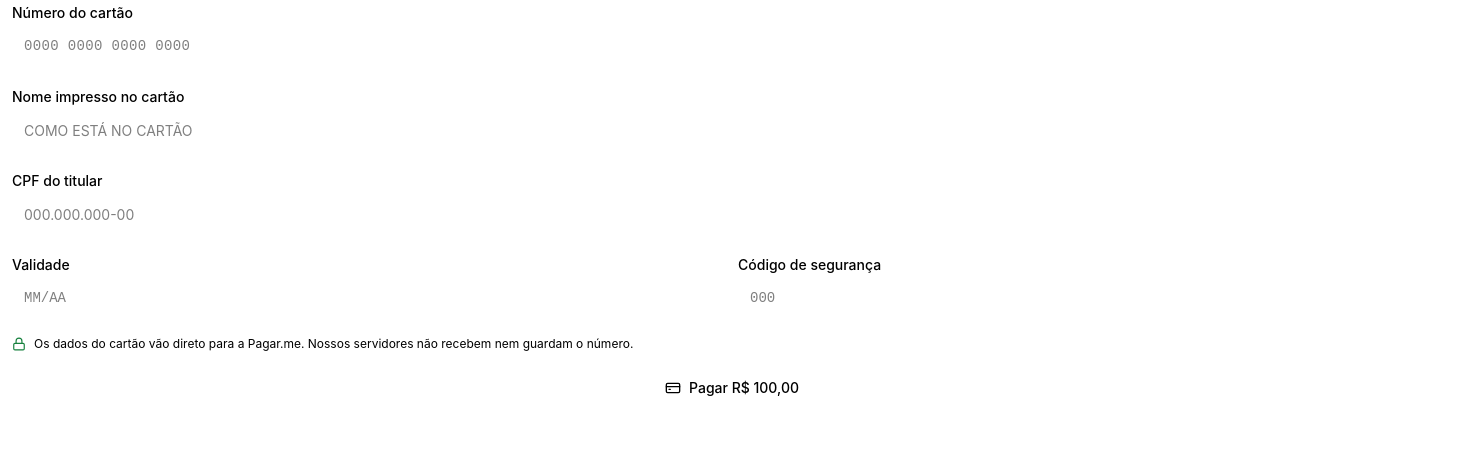
Scenario: PagarmeCardForm exit report › does not offer PIX when the outcome of the charge is unknown
Check: the button "Pagar R$ 100,00" is enabled, box [12,368,1452,408]
Type "4000 0000 0000 0010" into the field labelled "Número do cartão" at (732, 46), box [12,24,1452,68]
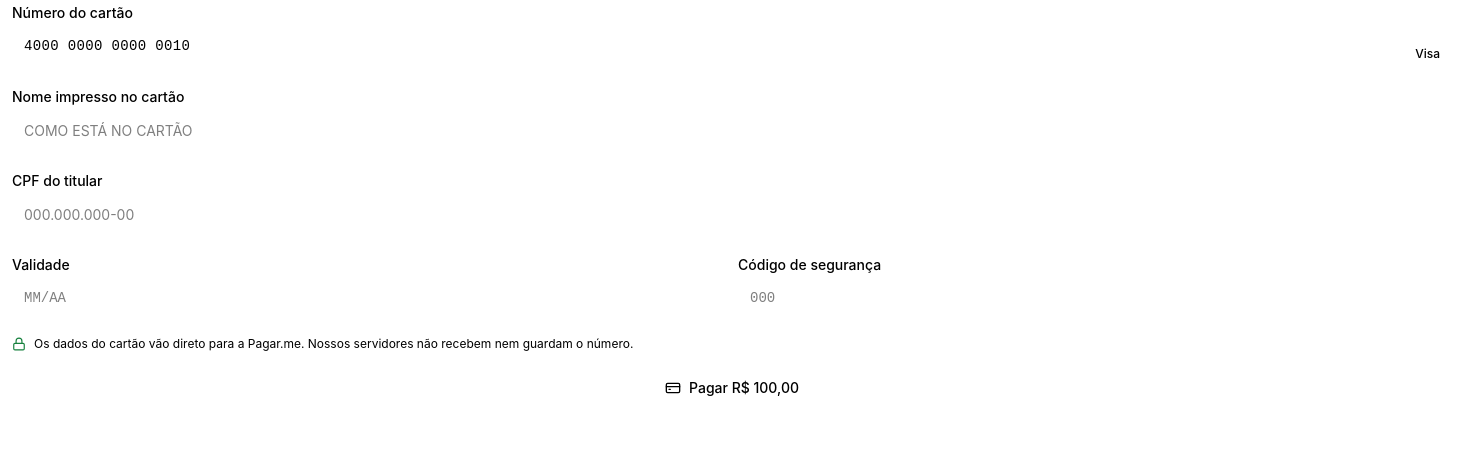
Type "MARIA DA SILVA" into the field labelled "Nome impresso no cartão" at (732, 130), box [12,108,1452,152]
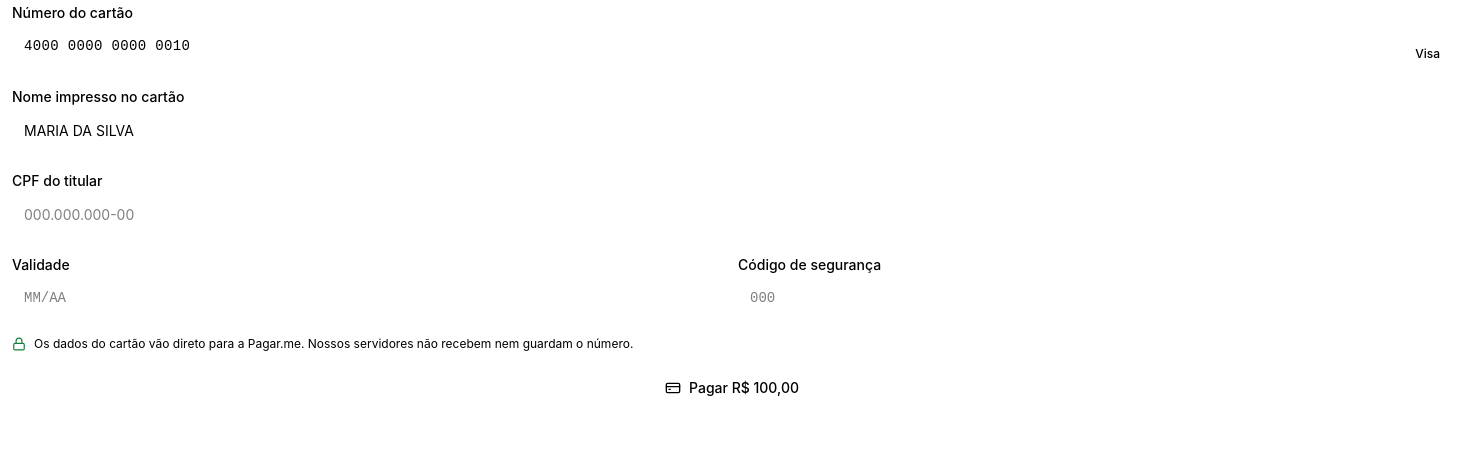
Type "52998224725" into the field labelled "CPF do titular" at (732, 214), box [12,192,1452,236]
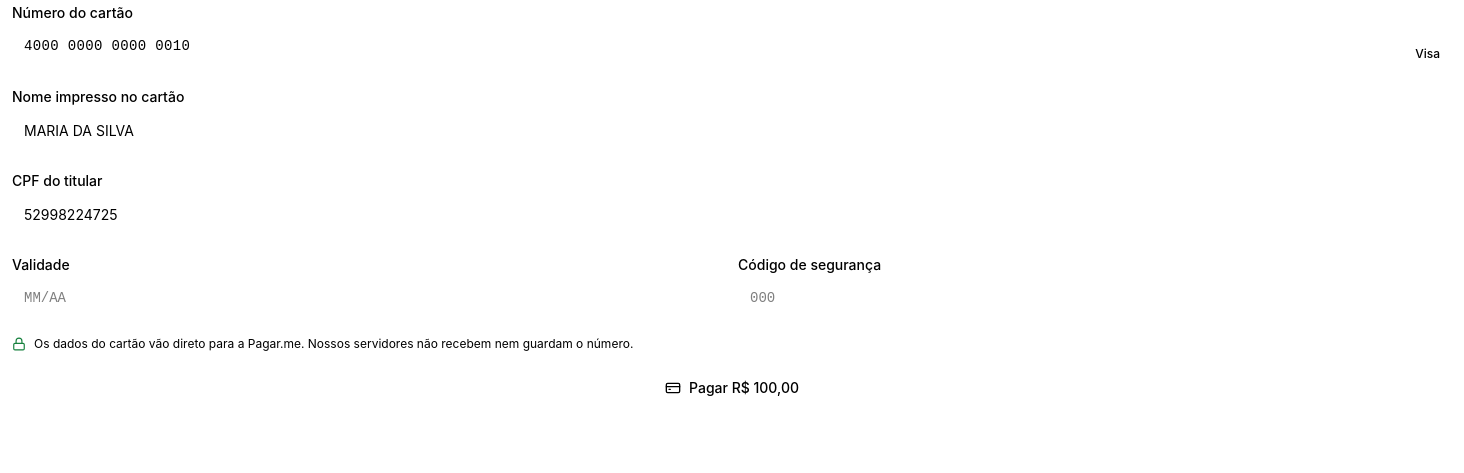
Type "12/30" into the field labelled "Validade" at (369, 298), box [12,276,726,320]
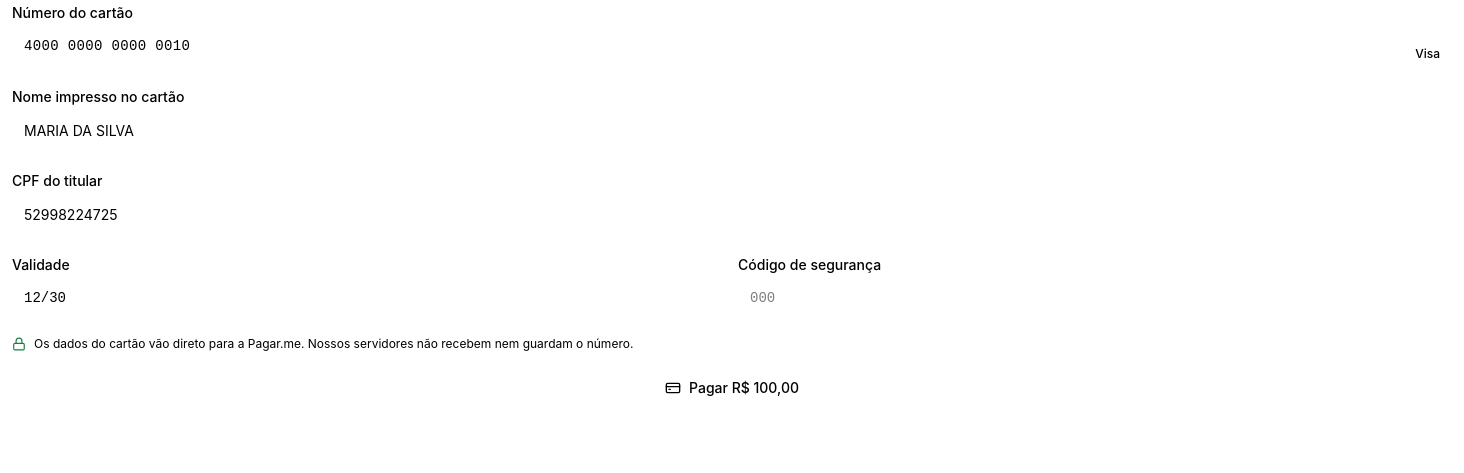
Type "123" into the field labelled "Código de segurança" at (1095, 298), box [738,276,1452,320]
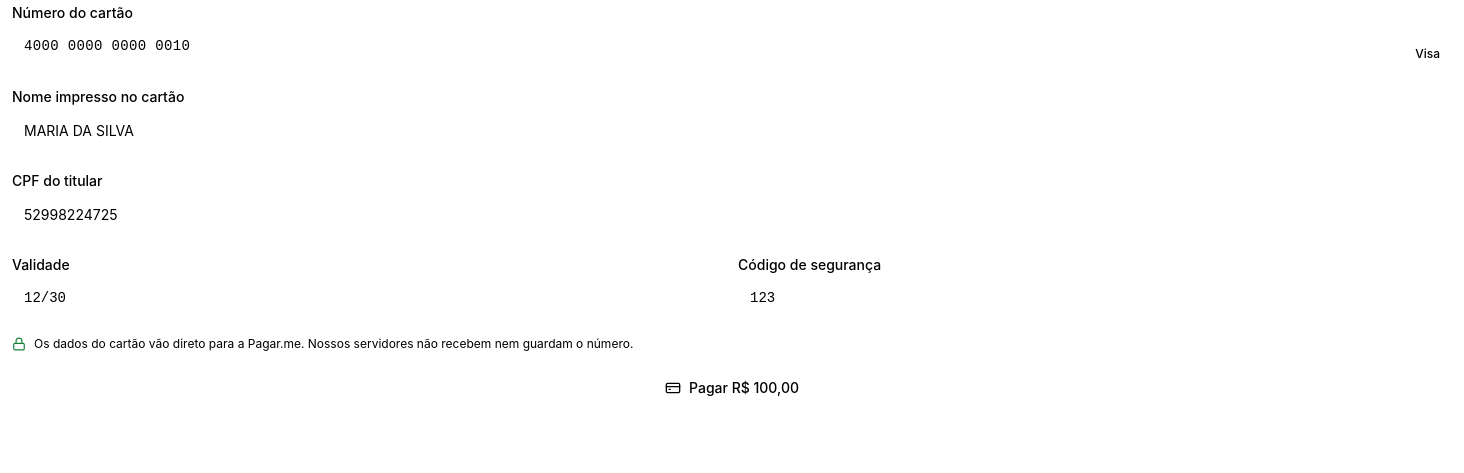
Click the button "Pagar R$ 100,00" at (732, 388), box [12,368,1452,408]
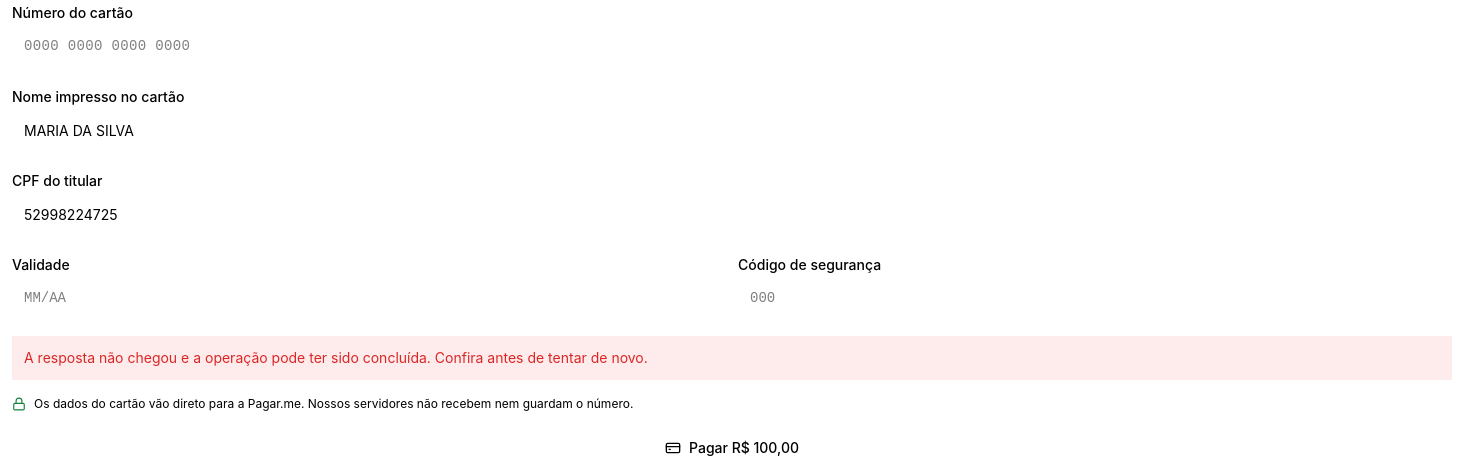
Check: the text "A resposta não chegou e a operação pode ter sido concluída. Confira antes de tentar de novo." is shown, box [24,349,648,366]
